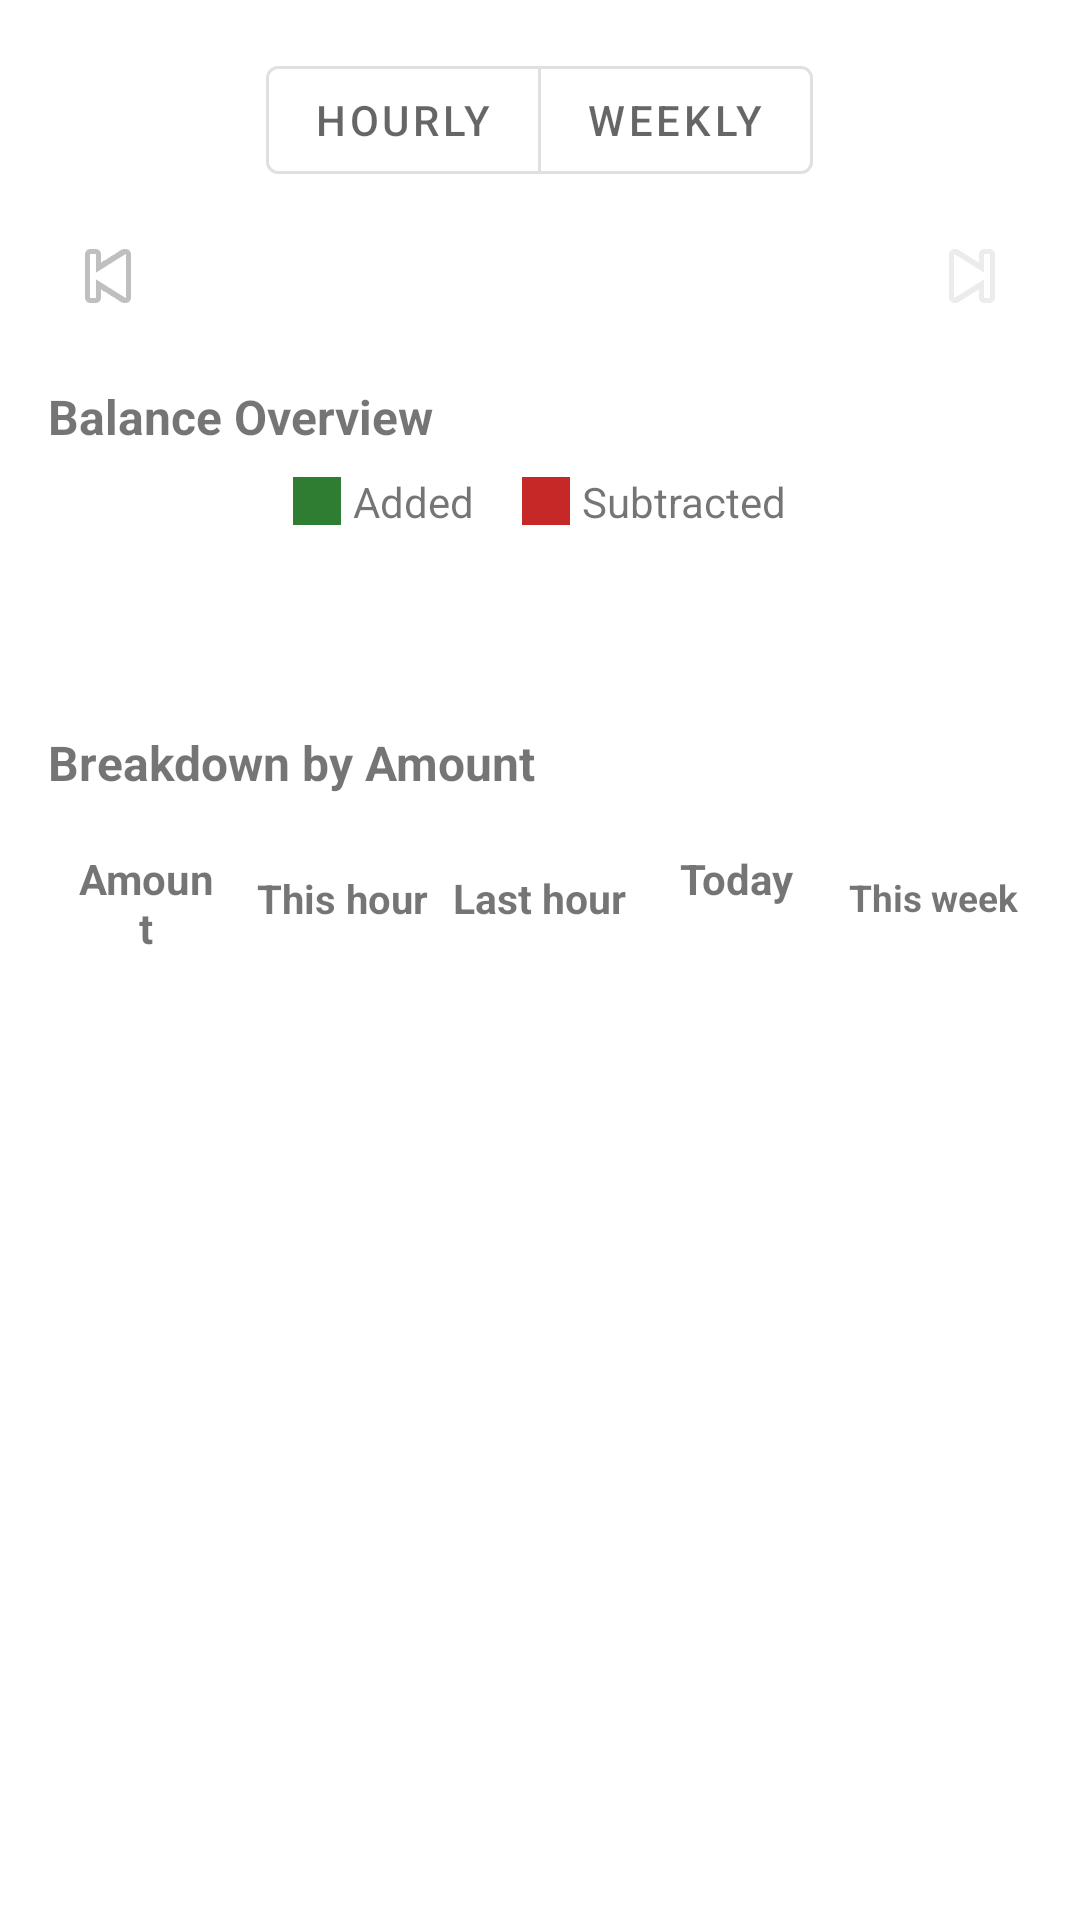

Point at icon controls on the screen. Image size 1080*1920, points as (x,y).
Previous: (108,276)
